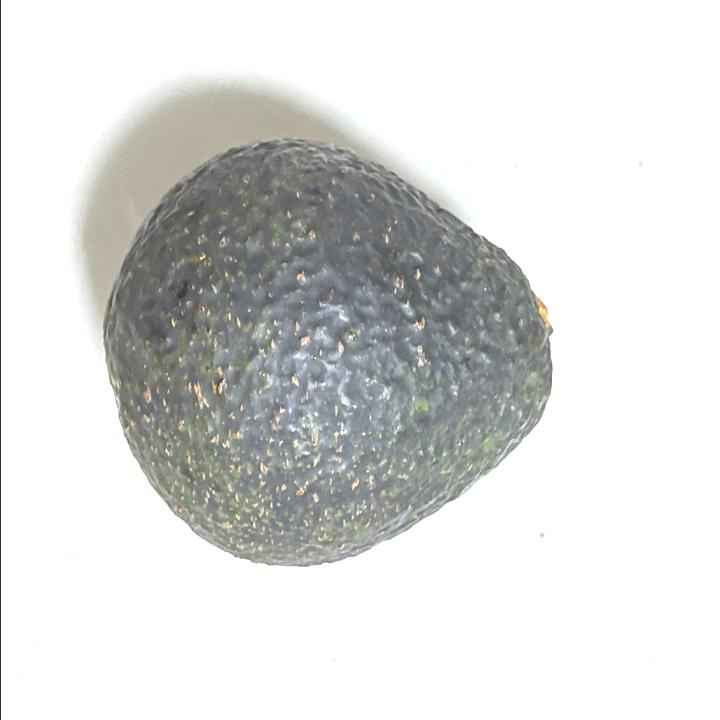Level1: (90, 132, 576, 578)
